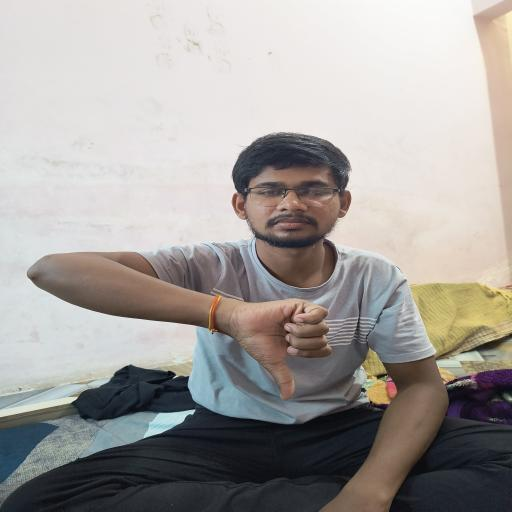Continue: (228, 293, 355, 405)
